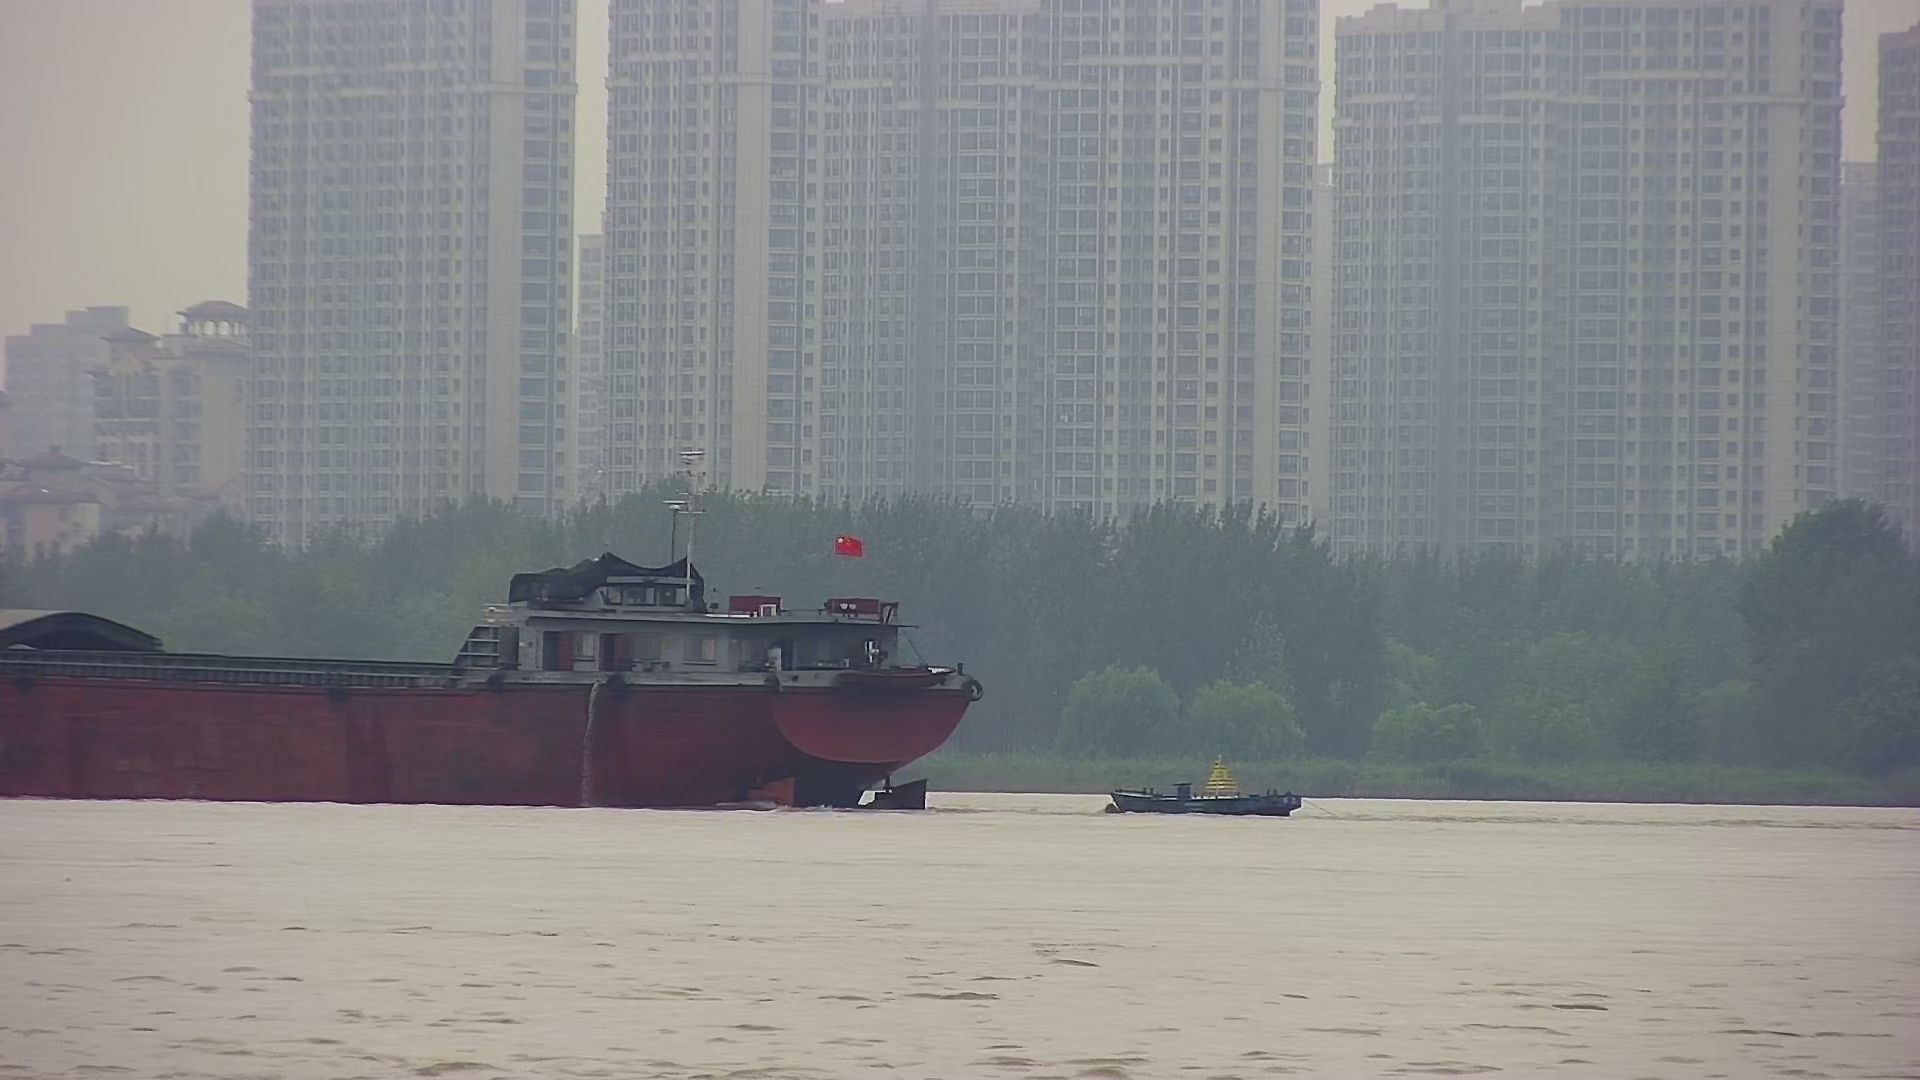boat: (1109, 746, 1303, 823)
ship: (1, 467, 982, 811)
